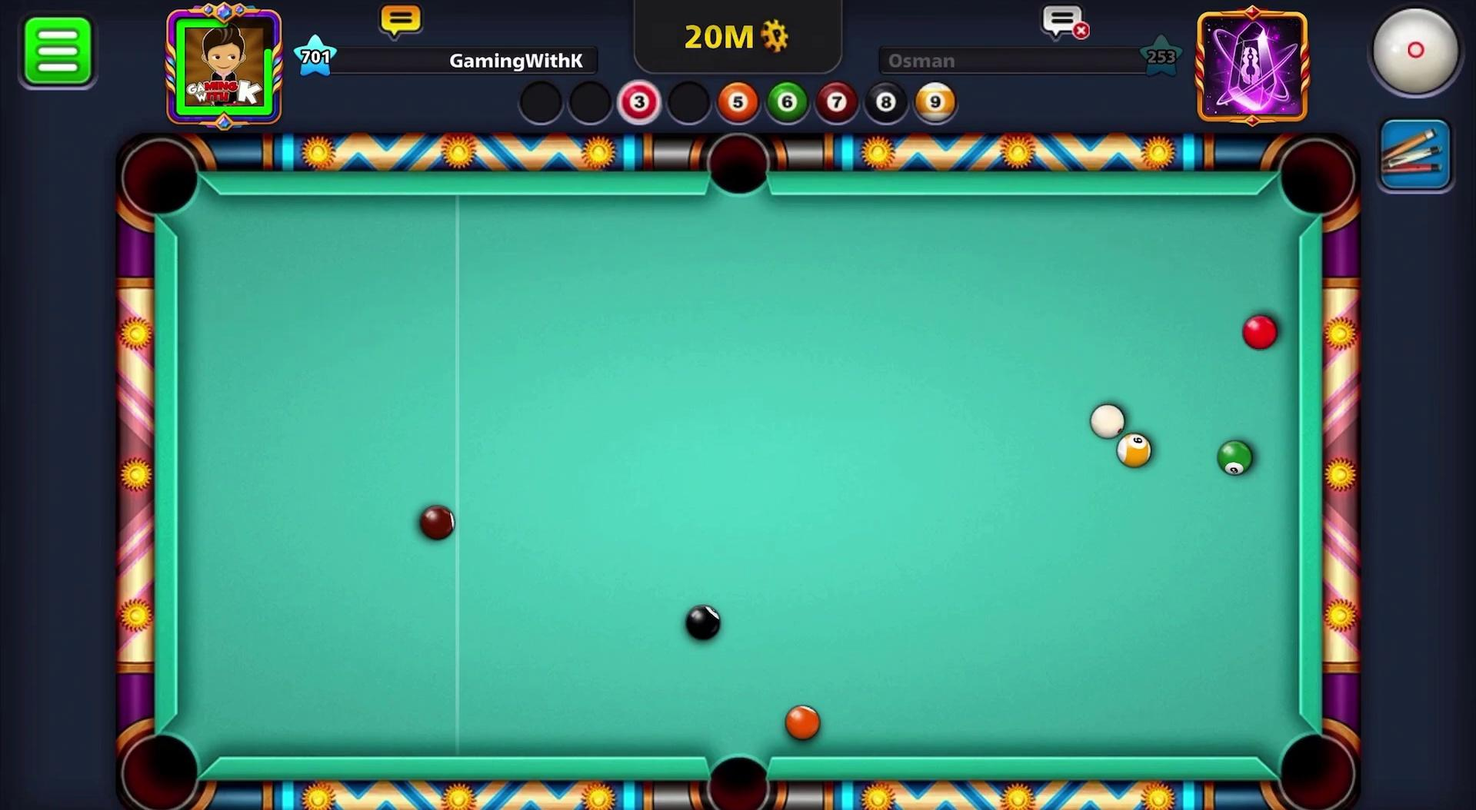Ball: (675, 600, 730, 647), (411, 500, 461, 546), (776, 702, 825, 745), (1239, 307, 1282, 354), (1216, 437, 1256, 476), (1117, 427, 1153, 470)
Hole: (108, 129, 213, 229), (1268, 131, 1365, 231), (1263, 715, 1365, 809), (114, 725, 206, 809), (688, 736, 784, 809), (700, 126, 777, 204)
Play_Area: (178, 196, 1294, 762)
Spin: (1347, 0, 1475, 114)
White: (1088, 398, 1128, 441)
